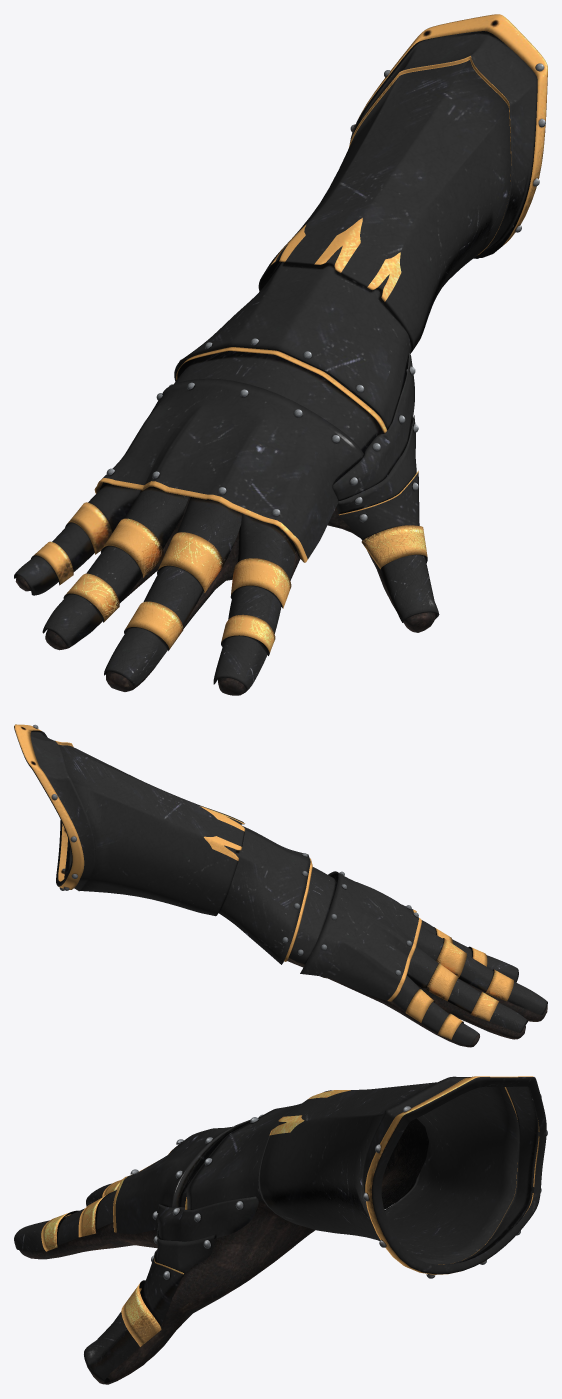
The model's file is manoderecha.fbx.
3 views of the same model, one above another, from view 1: azimuth 30°, elevation 25°; view 2: azimuth 150°, elevation 25°; view 3: azimuth 270°, elevation 25° (orthographic). The views are drawn at different scales.
Visible parts, largest first — view 1: Plane012, Object025, Object023, Object024, Object026, Object022; view 2: Plane012, Object023, Object025, Object022, Object024; view 3: Plane012, Object022, Object026, Object024.
Part boxes in pixels (left/top/right/bottom): Plane012: left=14, top=14, right=547, bottom=595; Object025: left=104, top=497, right=241, bottom=685; Object023: left=42, top=486, right=188, bottom=646; Object024: left=213, top=513, right=296, bottom=689; Object026: left=361, top=525, right=439, bottom=622; Object022: left=15, top=431, right=435, bottom=695; Plane012: left=14, top=724, right=479, bottom=1045; Object023: left=407, top=946, right=527, bottom=1032; Object025: left=416, top=925, right=547, bottom=1014; Object022: left=287, top=958, right=547, bottom=1047; Object024: left=421, top=920, right=518, bottom=982; Plane012: left=113, top=1076, right=546, bottom=1326; Object022: left=19, top=1118, right=428, bottom=1384; Object026: left=84, top=1280, right=161, bottom=1383; Object024: left=14, top=1189, right=116, bottom=1251.
Size of the model in its own units: 1224 by 822 by 907.
39 materials, 39 textured.
